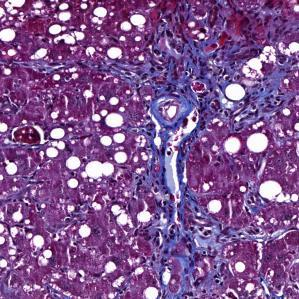fibrosis: (117, 42, 288, 124), (140, 212, 262, 295), (141, 131, 200, 248)
